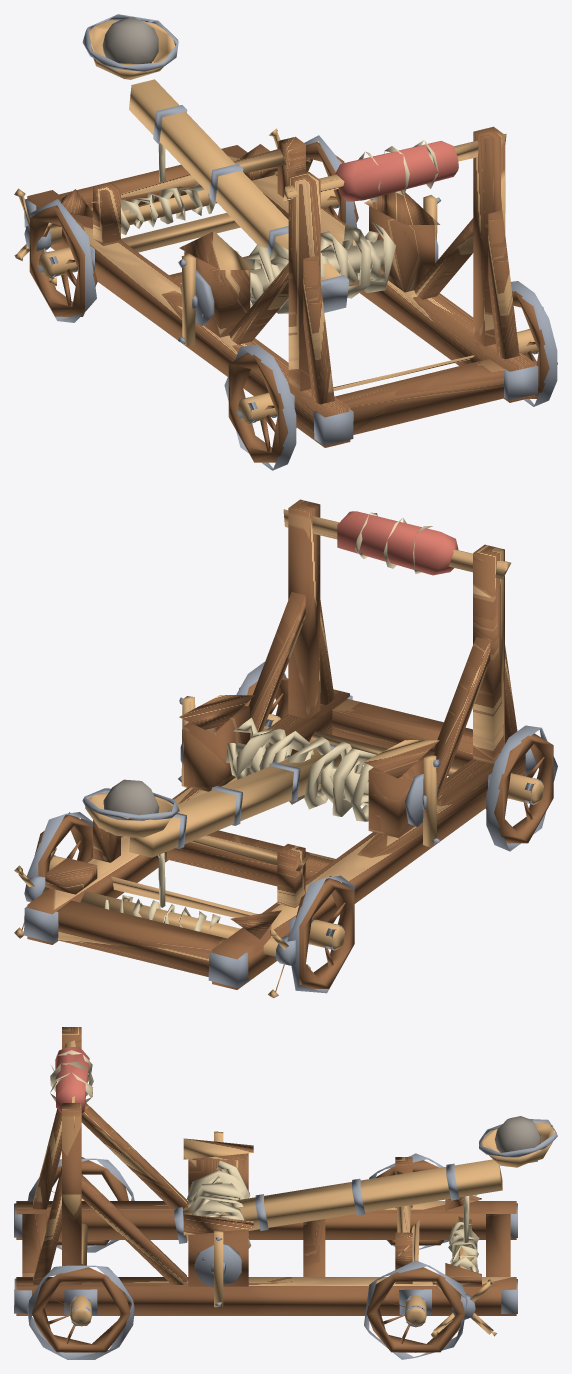
3 views of the same model, one above another, from view 1: azimuth 30°, elevation 25°; view 2: azimuth 150°, elevation 25°; view 3: azimuth 270°, elevation 25° (orthographic). The views are drawn at different scales.
Parts seen in each view (by area): view 1: catapult_body, catapult_fittings, catapult_arm, catapult_wheel_front_left, catapult_wheel_rear_left, catapult_wheel_front_right, catapult_wheel_rear_right; view 2: catapult_body, catapult_fittings, catapult_arm, catapult_wheel_front_left, catapult_wheel_rear_left, catapult_wheel_rear_right, catapult_wheel_front_right; view 3: catapult_body, catapult_arm, catapult_fittings, catapult_wheel_front_right, catapult_wheel_rear_right, catapult_wheel_front_left, catapult_wheel_rear_left.
Part boxes in pixels (x1,y1,x2,y2): catapult_body: (27,126,534,447); catapult_fittings: (14,128,538,445); catapult_arm: (82,14,348,312); catapult_wheel_front_left: (224,344,296,470); catapult_wheel_rear_left: (29,199,97,322); catapult_wheel_front_right: (511,281,557,406); catapult_wheel_rear_right: (304,135,358,227); catapult_body: (27,499,525,989); catapult_fittings: (14,511,536,998); catapult_arm: (82,744,342,857); catapult_wheel_front_left: (485,725,557,851); catapult_wheel_rear_left: (287,875,354,993); catapult_wheel_rear_right: (27,812,92,878); catapult_wheel_front_right: (236,662,288,730); catapult_body: (16,1027,516,1315); catapult_arm: (174,1116,557,1243); catapult_fittings: (14,1047,517,1337); catapult_wheel_front_right: (27,1263,134,1359); catapult_wheel_rear_right: (364,1260,467,1359); catapult_wheel_front_left: (27,1157,134,1252); catapult_wheel_rear_left: (369,1153,449,1249).
Bounding box in the file's own units: 2.48 × 2.26 × 4.55.
Materials: 7 (1 with a texture image).
